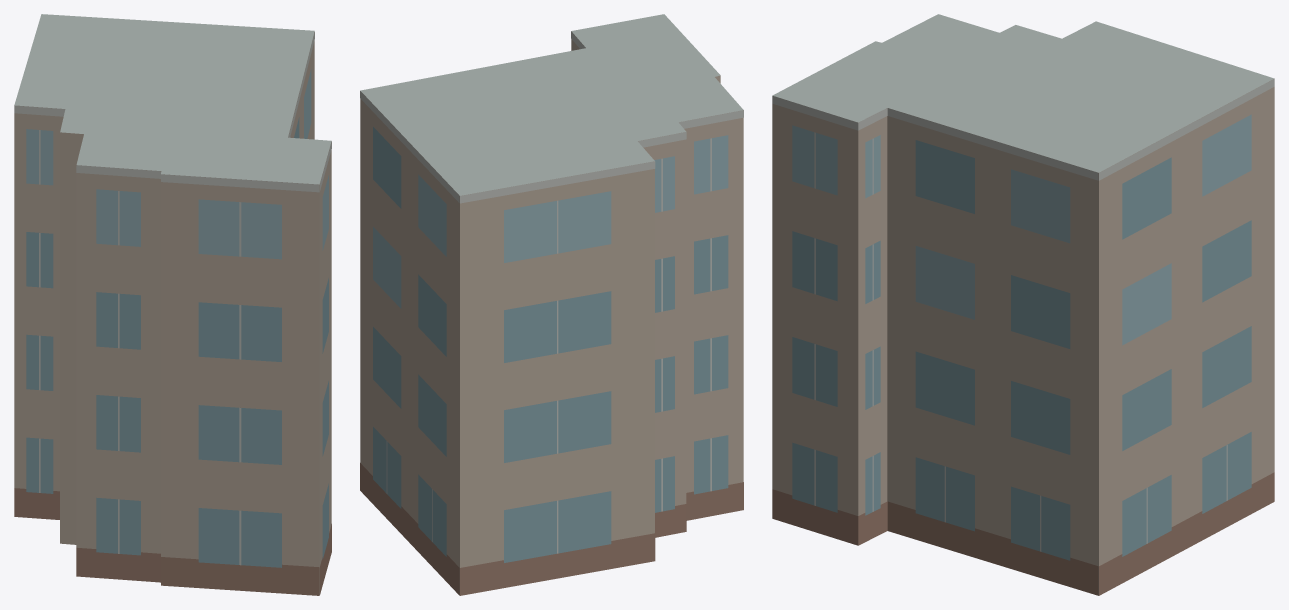
File: survey-upis-32963138.glb
3 views of the same model, side by side, from view 1: azimuth 30°, elevation 25°; view 2: azimuth 150°, elevation 25°; view 3: azimuth 270°, elevation 25° (orthographic). The views are drawn at different scales.
Visible parts, largest first — view 1: survey-upis-32963138.tmp; view 2: survey-upis-32963138.tmp; view 3: survey-upis-32963138.tmp.
Part boxes in pixels (x1,y1,x2,y2): survey-upis-32963138.tmp: (14, 14, 331, 595); survey-upis-32963138.tmp: (360, 14, 743, 595); survey-upis-32963138.tmp: (772, 14, 1274, 595).
Size of the model in its own units: 10.31 by 12.8 by 13.78.
